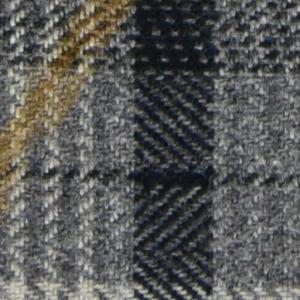Oil Stain: (1, 1, 145, 220)
